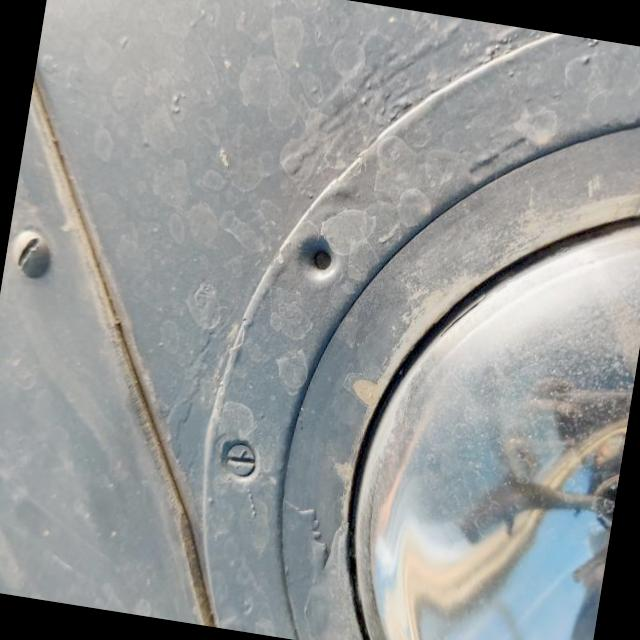Missing Fastener: (290, 224, 342, 288)
